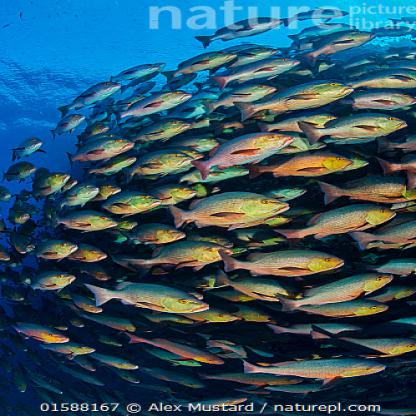snapper: (269, 197, 400, 250), (190, 125, 299, 183), (274, 267, 398, 313), (120, 237, 242, 283), (234, 77, 355, 121), (169, 193, 295, 232), (77, 276, 206, 312), (218, 241, 345, 277), (241, 148, 360, 183), (300, 110, 404, 143), (293, 27, 374, 68), (197, 82, 279, 118), (112, 87, 193, 123), (197, 14, 281, 48), (64, 133, 136, 172), (160, 48, 237, 84), (58, 76, 123, 118), (122, 115, 195, 142), (47, 210, 119, 236), (223, 41, 281, 70), (9, 137, 45, 165)
